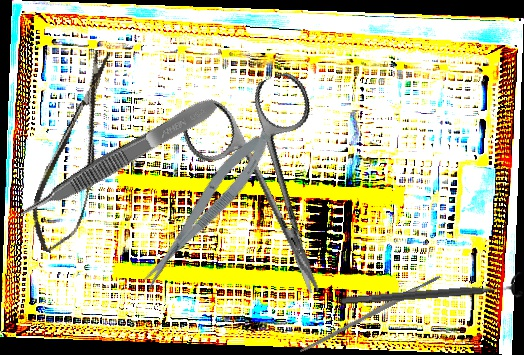Fixation Ring: (340, 271, 524, 315)
Iris Scissors: (174, 67, 372, 317)
Micro Scissor: (129, 123, 281, 295), (20, 46, 133, 259)
Scalpel Handle: (298, 274, 443, 355)
Tissue Forceps: (14, 94, 221, 223)
